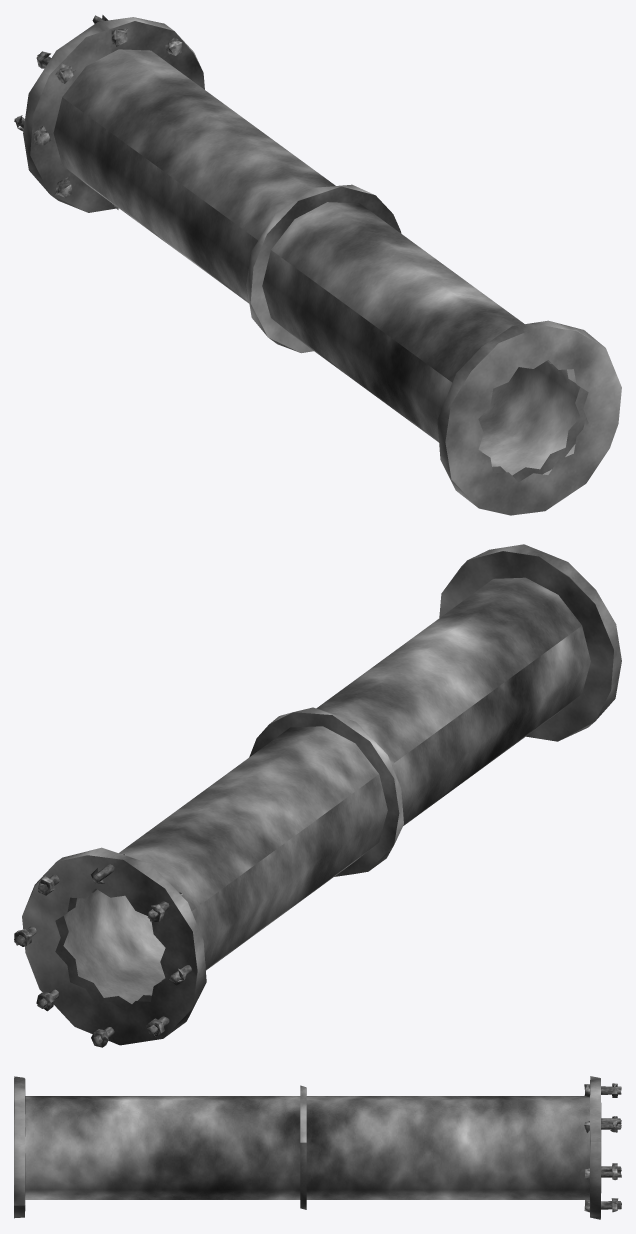
Rendered from SM_pipe_03.fbx.
3 renders of one model, top to bottom at view 1: azimuth 30°, elevation 25°; view 2: azimuth 150°, elevation 25°; view 3: azimuth 270°, elevation 25°, orthographic. The views are drawn at different scales.
Visible parts, largest first — view 1: SM_pipe_03_LOD0; view 2: SM_pipe_03_LOD0; view 3: SM_pipe_03_LOD0.
Boxes of the visible parts, x1,y1,x2,y2 form: SM_pipe_03_LOD0: (14,15,621,515); SM_pipe_03_LOD0: (14,544,621,1047); SM_pipe_03_LOD0: (14,1076,621,1219).
Bounding box in the file's own units: 24.15 × 104 × 24.38.
